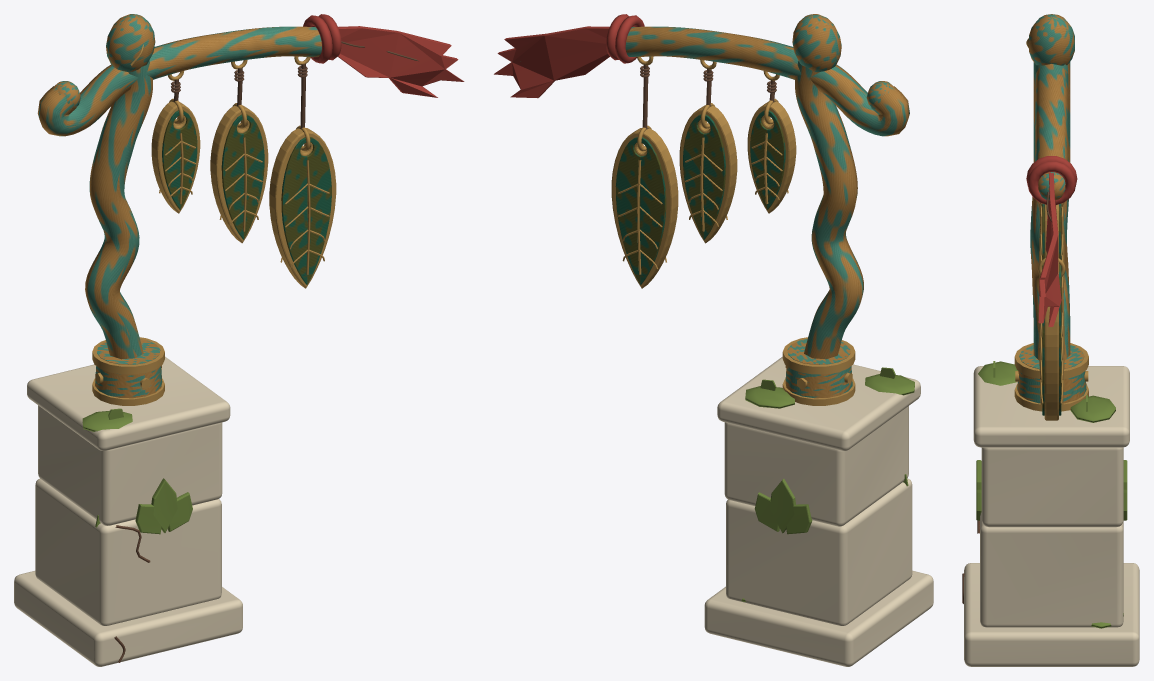
File: leaf-chime-post.glb
3 renders of one model, left to right at view 1: azimuth 30°, elevation 25°; view 2: azimuth 150°, elevation 25°; view 3: azimuth 270°, elevation 25°, orthographic. The views are drawn at different scales.
Visible parts, largest first — view 1: leaf-chime-limestone, leaf-chime-aged-bronze, leaf-chime-patina (×3), leaf-chime-exposed-bronze (×4), leaf-chime-wine-red-cloth, leaf-chime-moss-and-ivy, leaf-chime-cord-and-seams; view 2: leaf-chime-limestone, leaf-chime-aged-bronze, leaf-chime-patina (×3), leaf-chime-exposed-bronze (×4), leaf-chime-wine-red-cloth, leaf-chime-moss-and-ivy, leaf-chime-cord-and-seams; view 3: leaf-chime-limestone, leaf-chime-aged-bronze, leaf-chime-exposed-bronze (×3), leaf-chime-wine-red-cloth, leaf-chime-moss-and-ivy, leaf-chime-patina (×2).
Part boxes in pixels (x1,y1,x2,y2): leaf-chime-limestone: (14,356,242,666); leaf-chime-aged-bronze: (37,14,321,398); leaf-chime-patina (×3): (162,110,331,284); leaf-chime-exposed-bronze (×4): (92,44,336,405); leaf-chime-wine-red-cloth: (303,14,464,97); leaf-chime-moss-and-ivy: (82,368,192,534); leaf-chime-cord-and-seams: (114,63,307,662); leaf-chime-limestone: (704,357,933,666); leaf-chime-aged-bronze: (625,14,909,398); leaf-chime-patina (×3): (615,110,785,284); leaf-chime-exposed-bronze (×4): (611,56,855,405); leaf-chime-wine-red-cloth: (494,14,644,98); leaf-chime-moss-and-ivy: (741,367,914,601); leaf-chime-cord-and-seams: (640,65,776,128); leaf-chime-limestone: (964,366,1139,666); leaf-chime-aged-bronze: (1017,14,1086,403); leaf-chime-exposed-bronze (×3): (1014,37,1088,420); leaf-chime-wine-red-cloth: (1026,156,1077,326); leaf-chime-moss-and-ivy: (976,361,1127,628); leaf-chime-patina (×2): (1042,203,1061,415).
Bounding box in the file's own units: 3.11 × 4.28 × 1.11.
7 materials, 2 textured.
